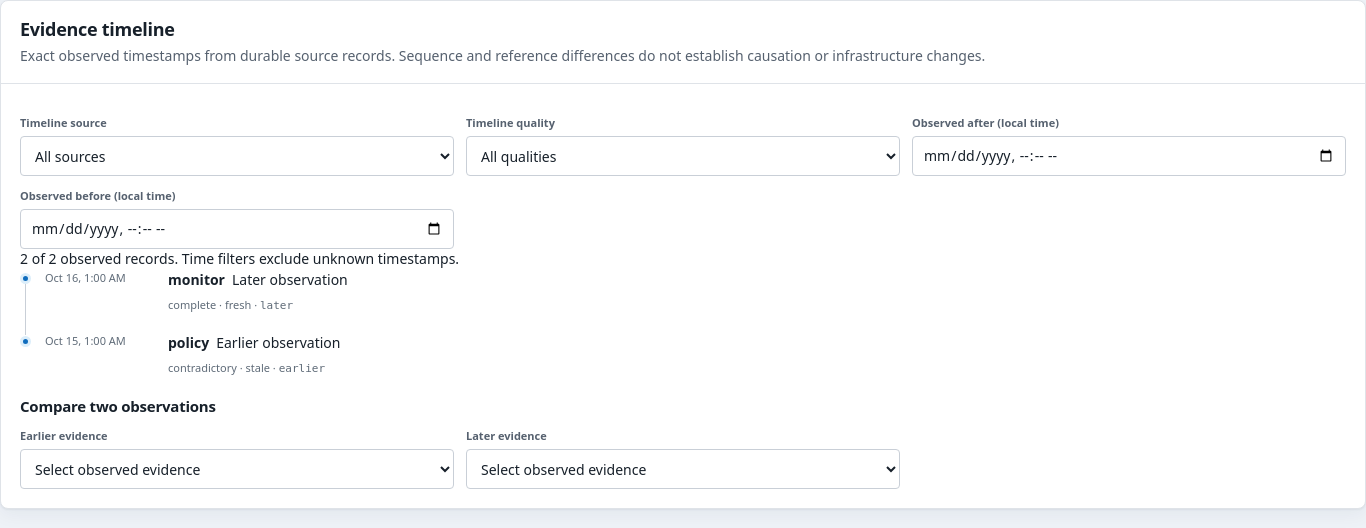
Test: observed Situation timeline › filters actual observations by source, quality and time without claiming a complete history
This screenshot has width=1366, height=528.
Select "monitor" in the dropdown labelled "Timeline source" at (237, 156), box x1=20 y1=136 x2=454 y2=176
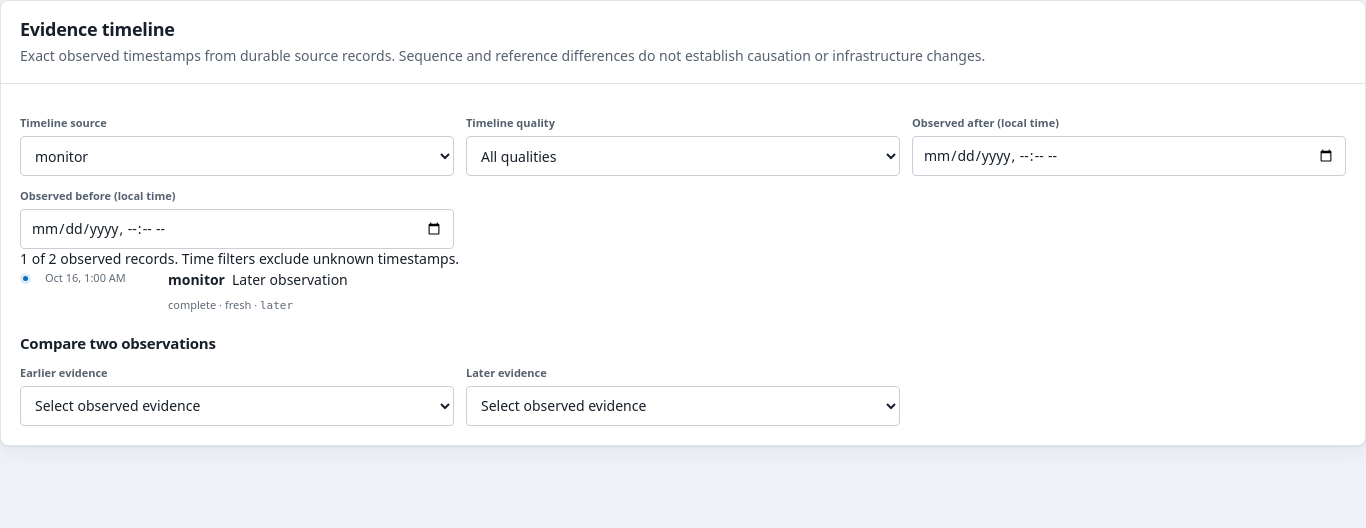
Expected: the text "Later observation" is shown, x1=232 y1=270 x2=348 y2=290
Result: the text "Earlier observation" is gone
Select "contradictory" in the dropdown labelled "Timeline quality" at (683, 156), box x1=466 y1=136 x2=900 y2=176
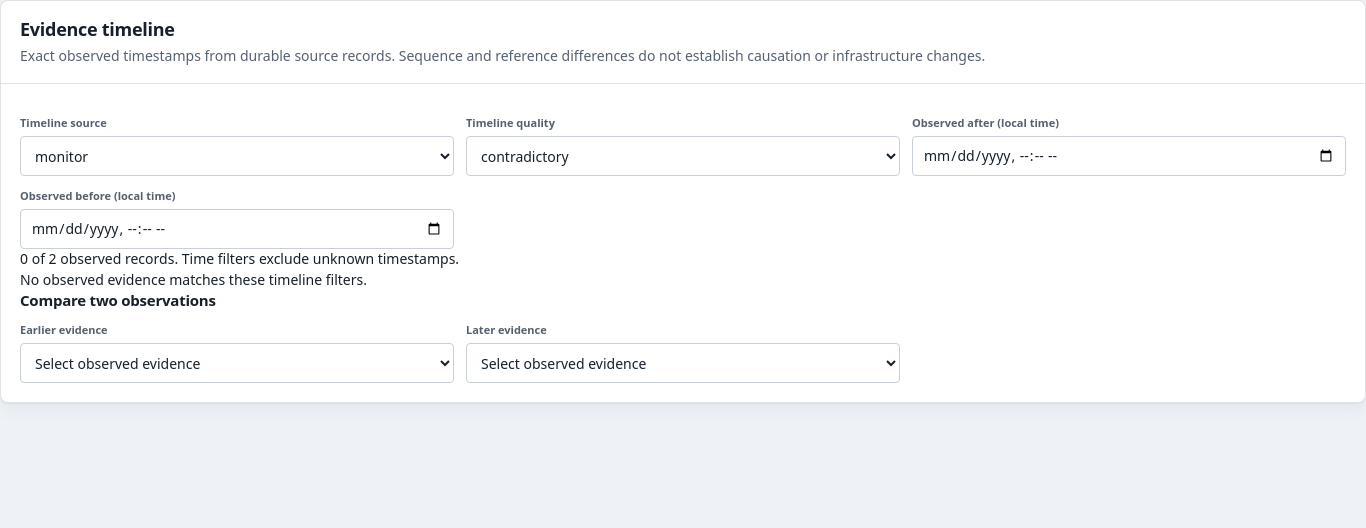
Result: the text "No observed evidence matches these timeline filters." is shown at x1=20 y1=270 x2=367 y2=289
Select "All sources" in the dropdown labelled "Timeline source" at (237, 156), box x1=20 y1=136 x2=454 y2=176
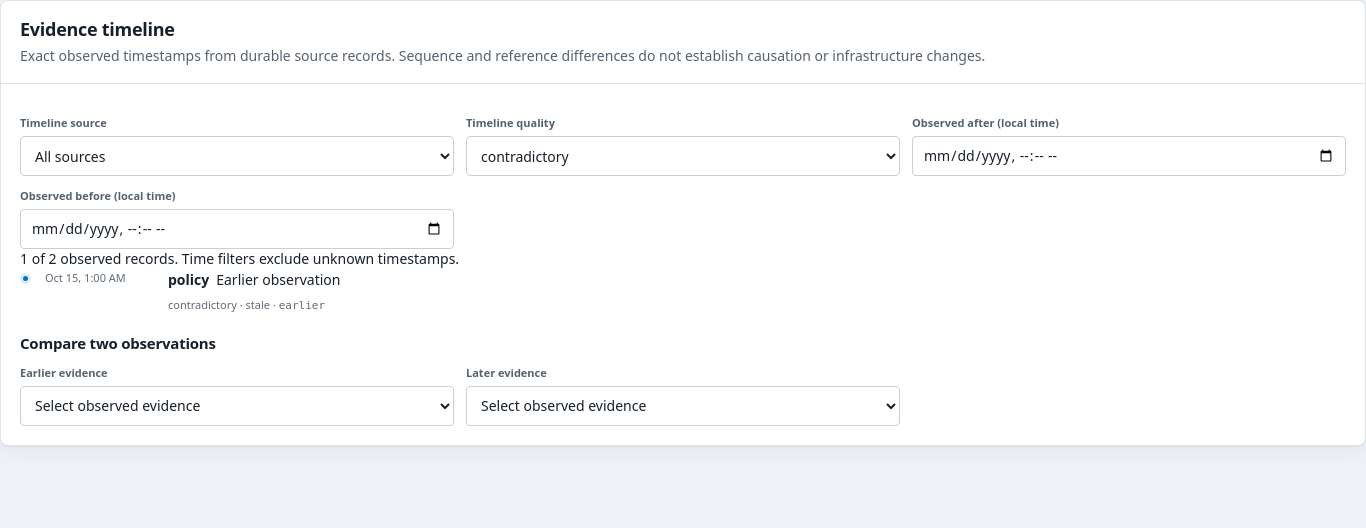
Select "All qualities" in the dropdown labelled "Timeline quality" at (683, 156), box x1=466 y1=136 x2=900 y2=176
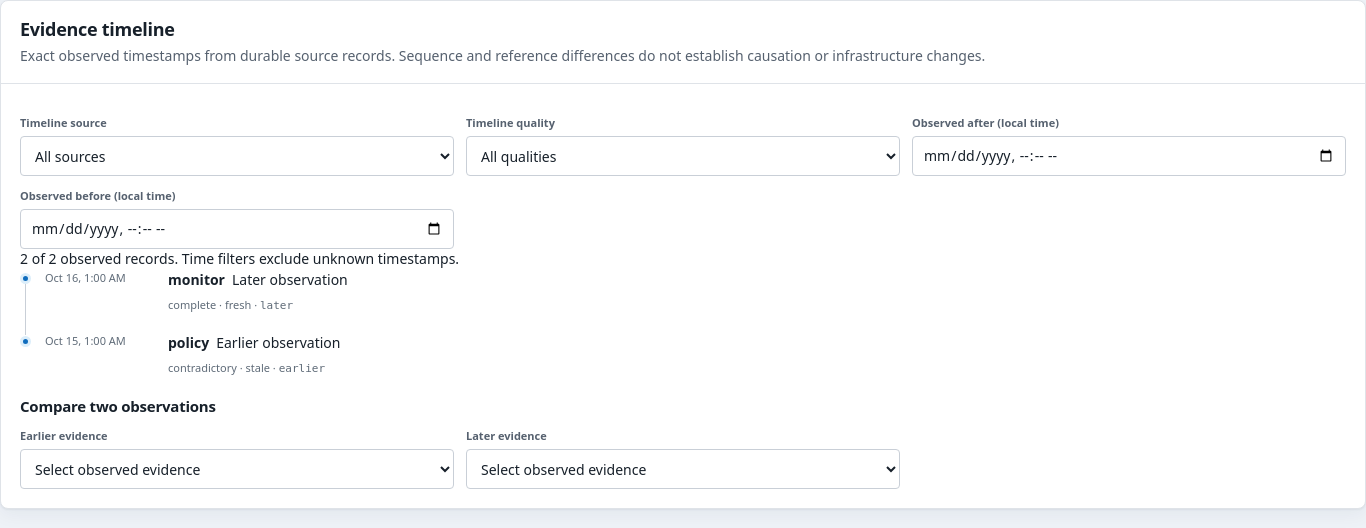
Type "2026-10-20T00:00" into the field labelled "Observed after (local time)".
click(1129, 156); type("2026-10-20T00:00")  # box x1=912 y1=136 x2=1346 y2=176
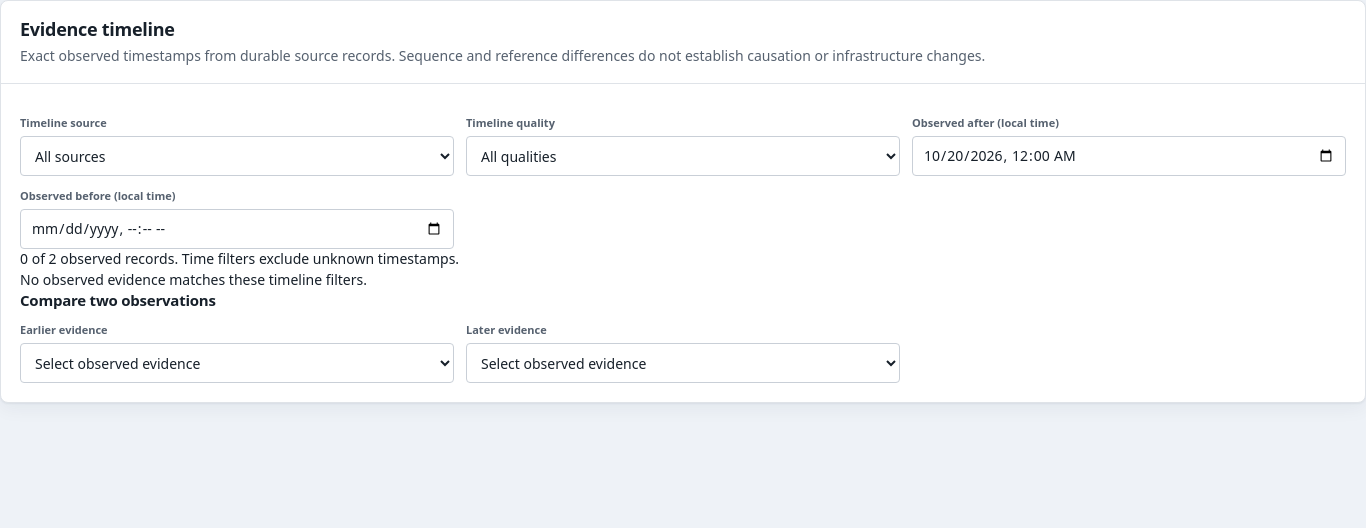
Result: the text "Later observation" is gone
